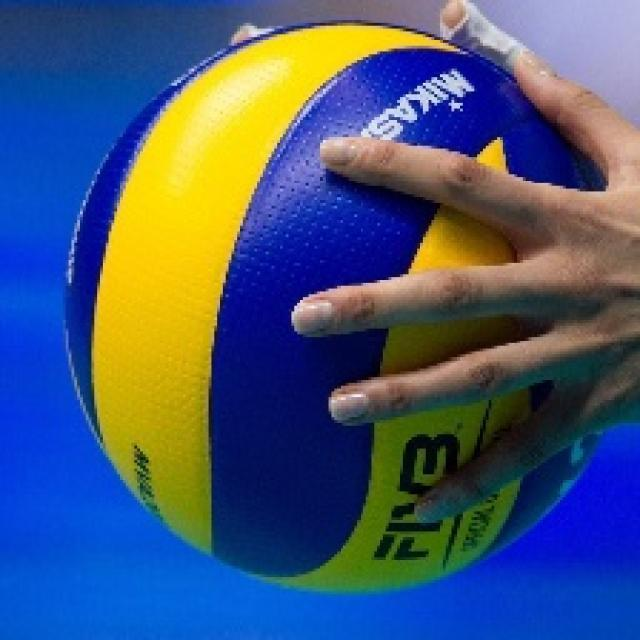volleyball: (66, 22, 606, 594)
